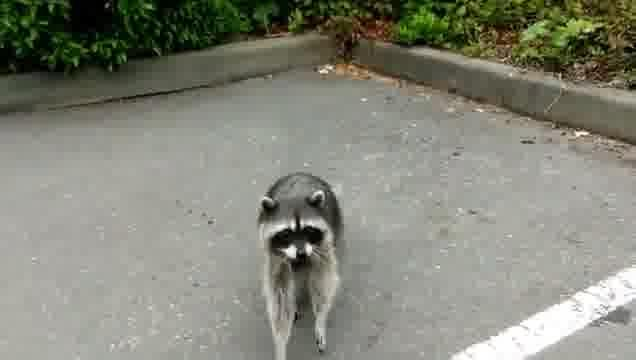raccoon: (253, 170, 346, 360)
